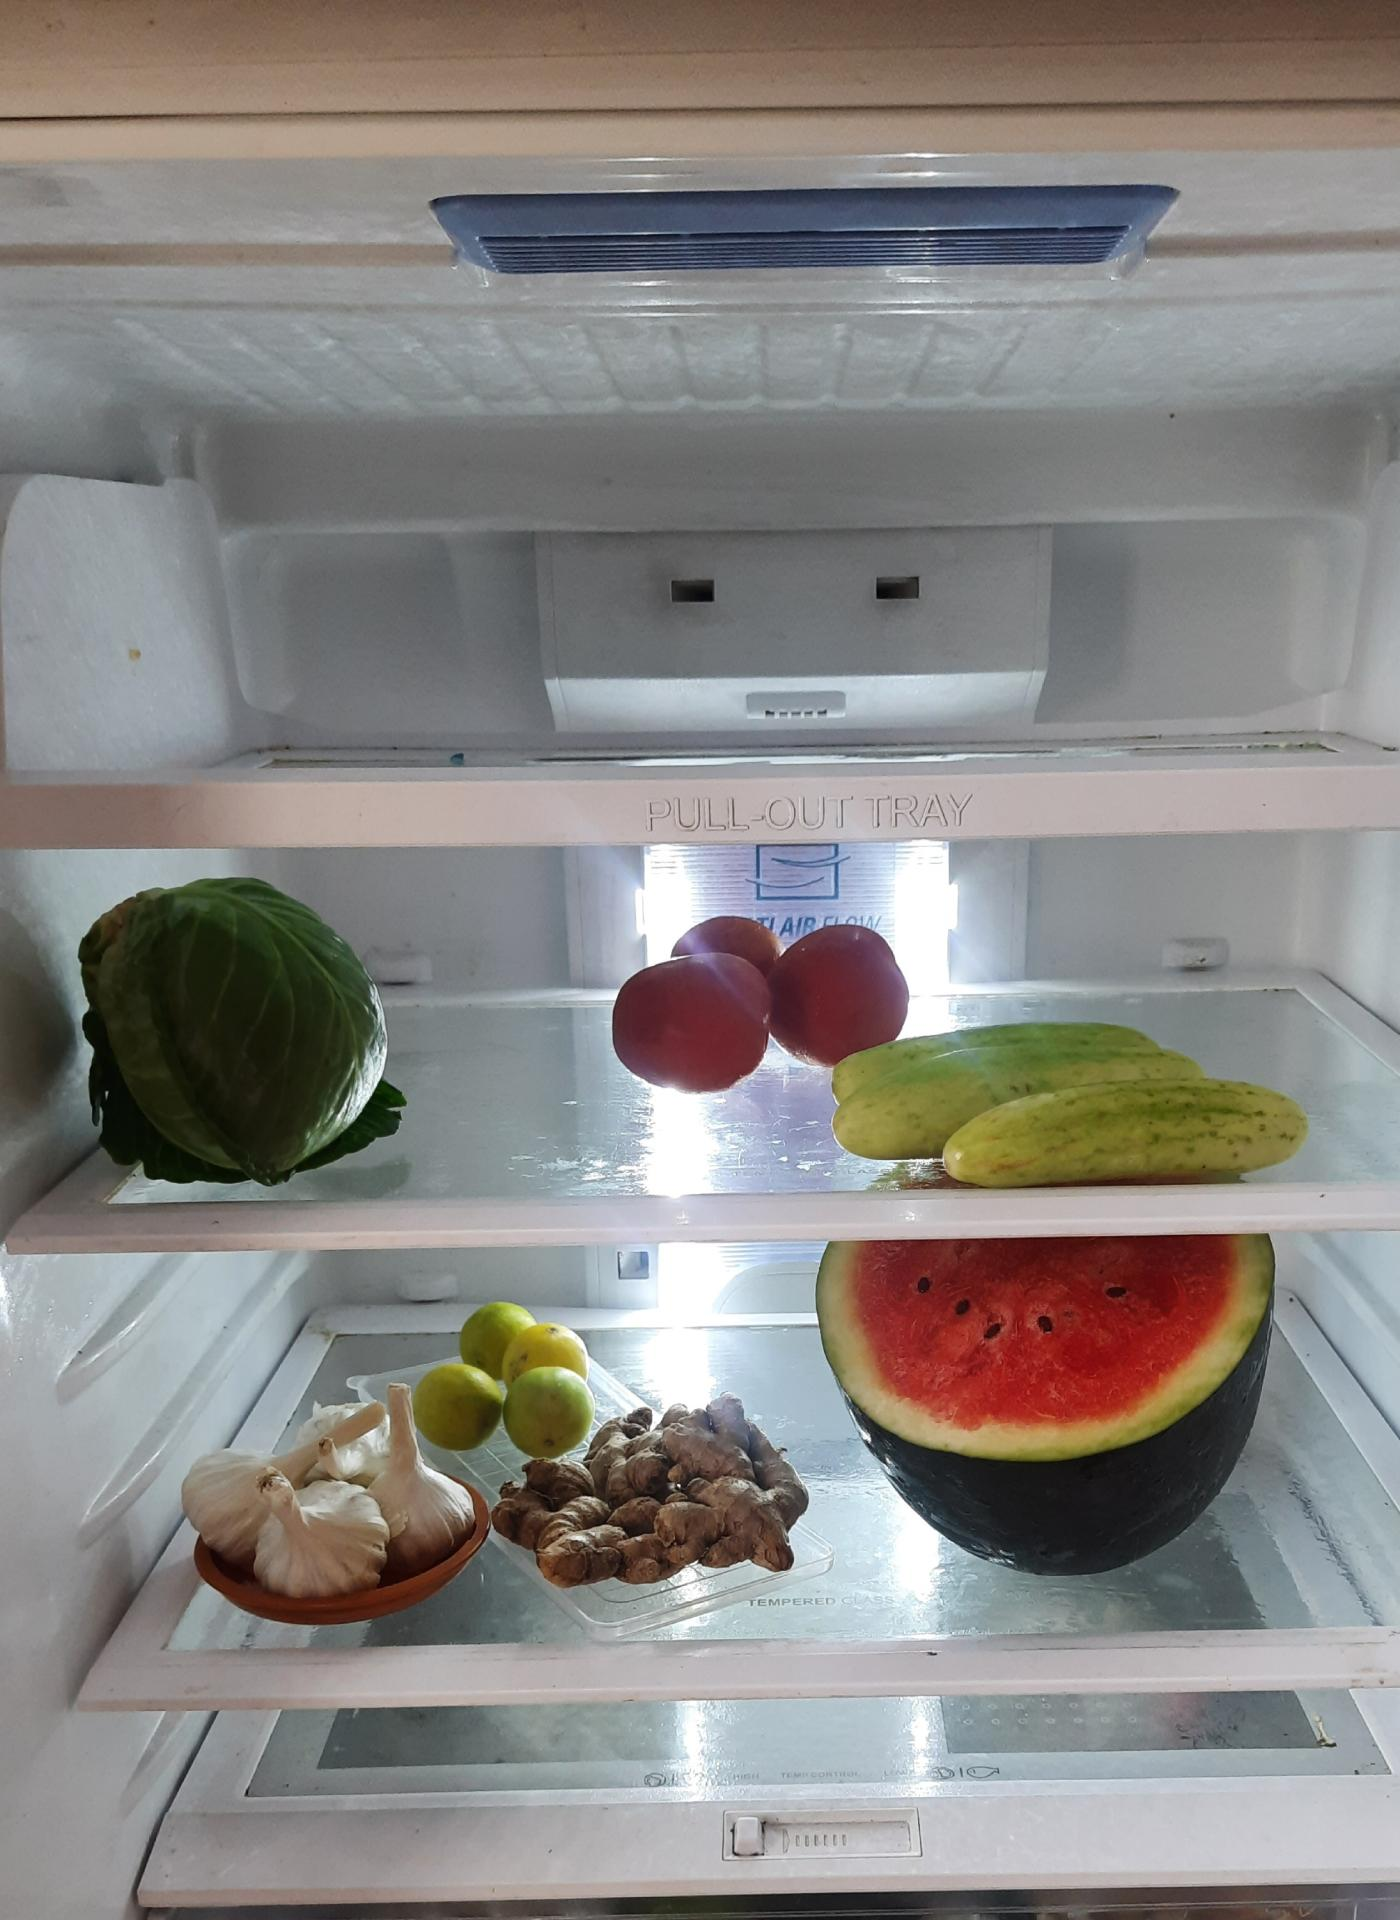cabbage: (79, 875, 391, 1172)
cucumber: (835, 1024, 1306, 1182)
garlic: (191, 1410, 467, 1601)
ginger: (495, 1401, 805, 1595)
lemon: (414, 1297, 593, 1452)
tomato: (617, 912, 915, 1085)
watermelon: (808, 1222, 1275, 1558)
